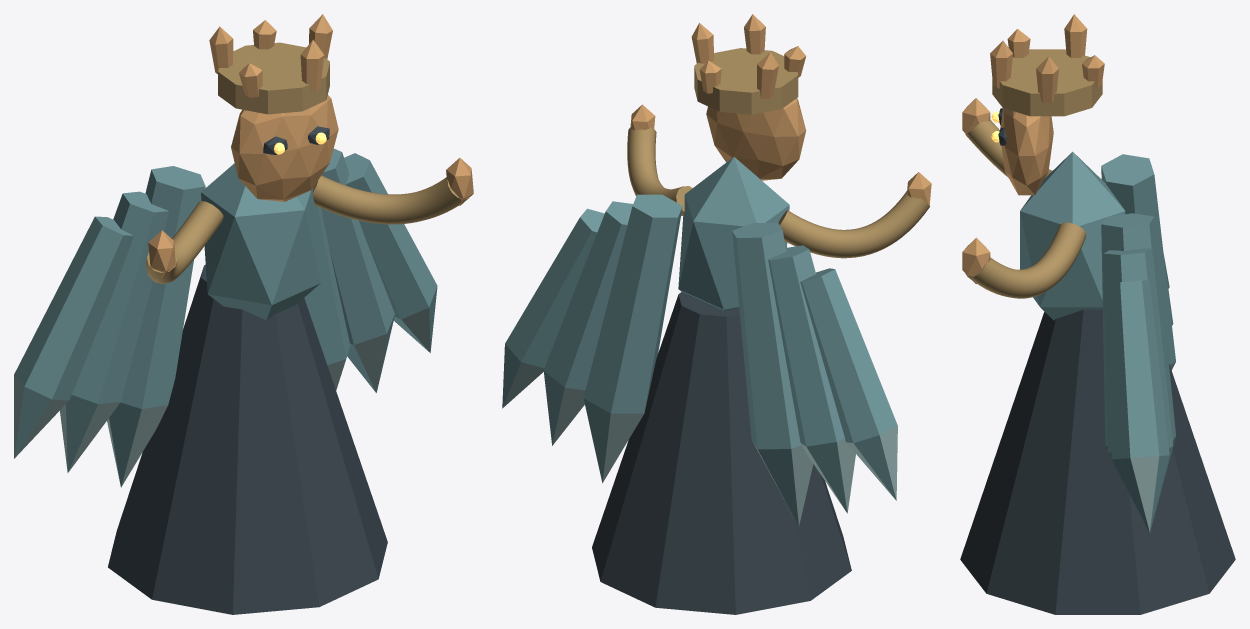
The model's file is splintered_queen.glb.
3 views of the same model, side by side, from view 1: azimuth 30°, elevation 25°; view 2: azimuth 150°, elevation 25°; view 3: azimuth 270°, elevation 25° (orthographic). The views are drawn at different scales.
Visible parts, largest first — view 1: splintered_queen_body, mantle_left, mantle_right; view 2: splintered_queen_body, mantle_left, mantle_right; view 3: splintered_queen_body, mantle_right, mantle_left.
Boxes of the visible parts, box(x1,y1,x2,y2) form: splintered_queen_body: box(108, 14, 473, 614); mantle_left: box(14, 166, 205, 487); mantle_right: box(304, 148, 437, 392); splintered_queen_body: box(592, 14, 931, 614); mantle_left: box(732, 222, 897, 525); mantle_right: box(502, 194, 682, 483); splintered_queen_body: box(960, 14, 1235, 614); mantle_right: box(1101, 213, 1175, 533); mantle_left: box(1101, 154, 1175, 370).
Size of the model in its own units: 1.02 by 1.26 by 0.6.
